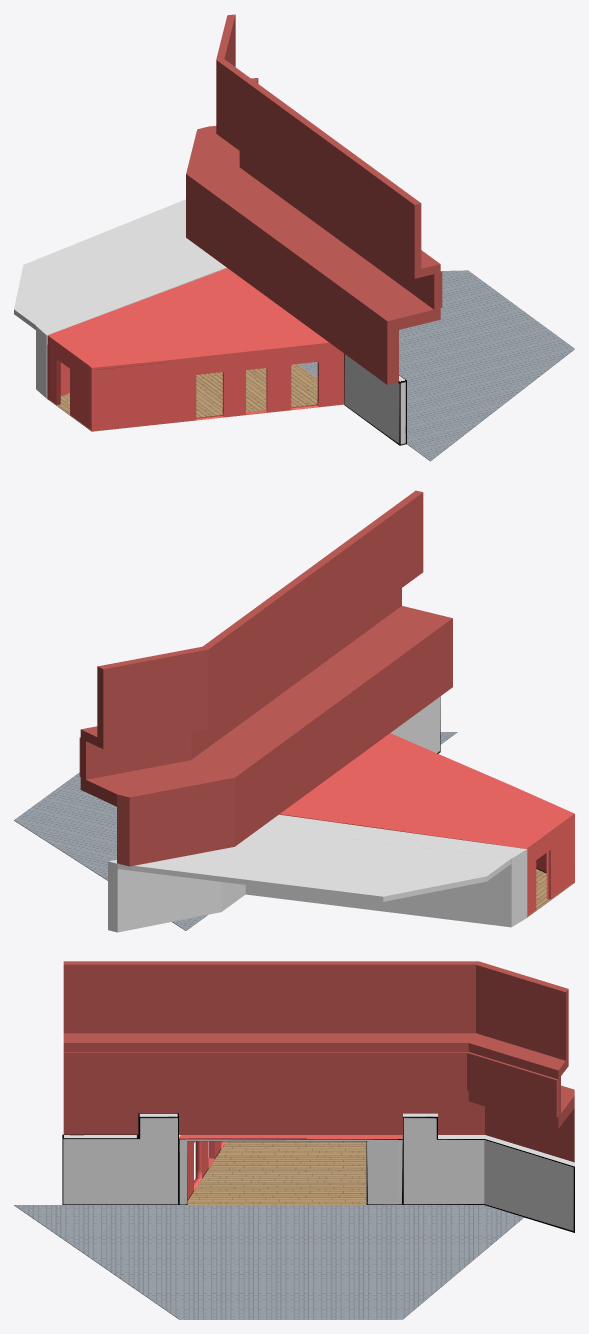
The model's file is Luna_s.glb.
3 renders of one model, top to bottom at view 1: azimuth 30°, elevation 25°; view 2: azimuth 150°, elevation 25°; view 3: azimuth 270°, elevation 25°, orthographic. The views are drawn at different scales.
Parts seen in each view (by area): view 1: Galleria Superiore, Luna's, Pavimento Esterno, Natura, Gioia, Pavimento Luna's; view 2: Galleria Superiore, Natura, Luna's, Pavimento Esterno, Gioia; view 3: Galleria Superiore, Pavimento Esterno, Natura, Pavimento Luna's, Gioia, Luna's.
Boxes of the visible parts, x1,y1,x2,y2 form: Galleria Superiore: (186, 14, 442, 384); Luna's: (47, 268, 344, 431); Pavimento Esterno: (298, 270, 574, 461); Natura: (14, 199, 226, 398); Gioia: (344, 354, 406, 445); Pavimento Luna's: (47, 364, 341, 431); Galleria Superiore: (79, 490, 452, 866); Natura: (108, 814, 527, 932); Luna's: (279, 733, 574, 916); Pavimento Esterno: (14, 732, 457, 930); Gioia: (390, 696, 440, 753); Galleria Superiore: (63, 961, 574, 1162); Pavimento Esterno: (14, 1205, 523, 1319); Natura: (401, 1113, 574, 1232); Pavimento Luna's: (187, 1141, 366, 1204); Gioia: (62, 1113, 178, 1204); Luna's: (179, 1135, 402, 1204).
Bounding box in the file's own units: 25.27 × 12.8 × 26.21.
7 materials, 6 textured.
